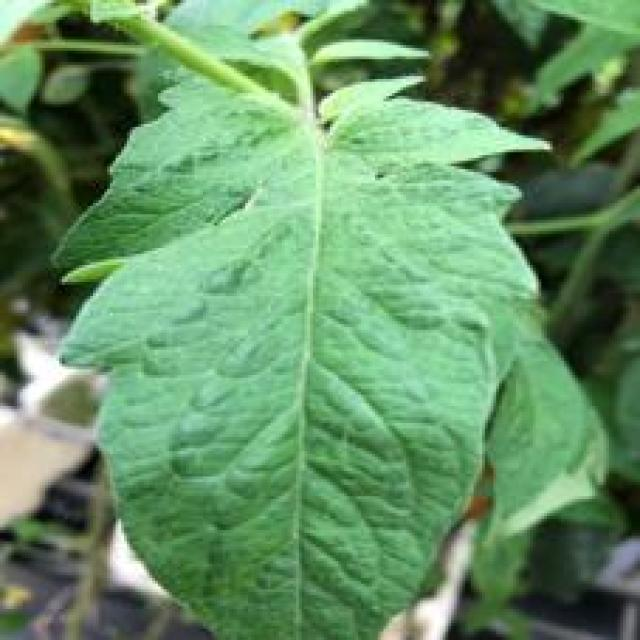Healthy Leaf: (63, 77, 591, 640)
